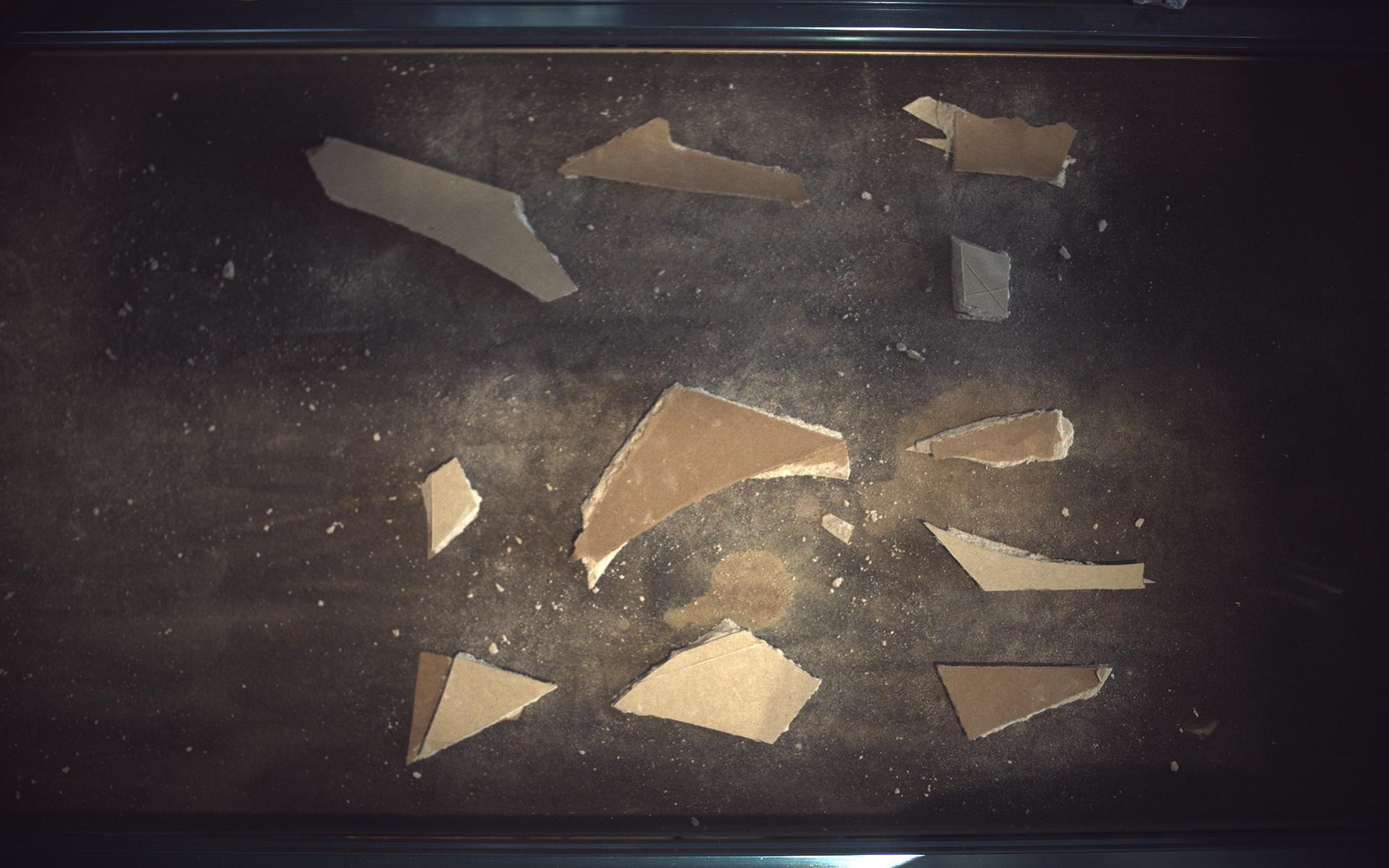foam: (574, 384, 852, 587), (307, 137, 577, 301), (616, 627, 823, 744), (559, 116, 810, 204), (407, 652, 556, 767), (927, 522, 1155, 592), (906, 95, 1078, 186), (939, 666, 1114, 741), (910, 409, 1076, 468), (420, 458, 481, 559), (953, 237, 1012, 321)
